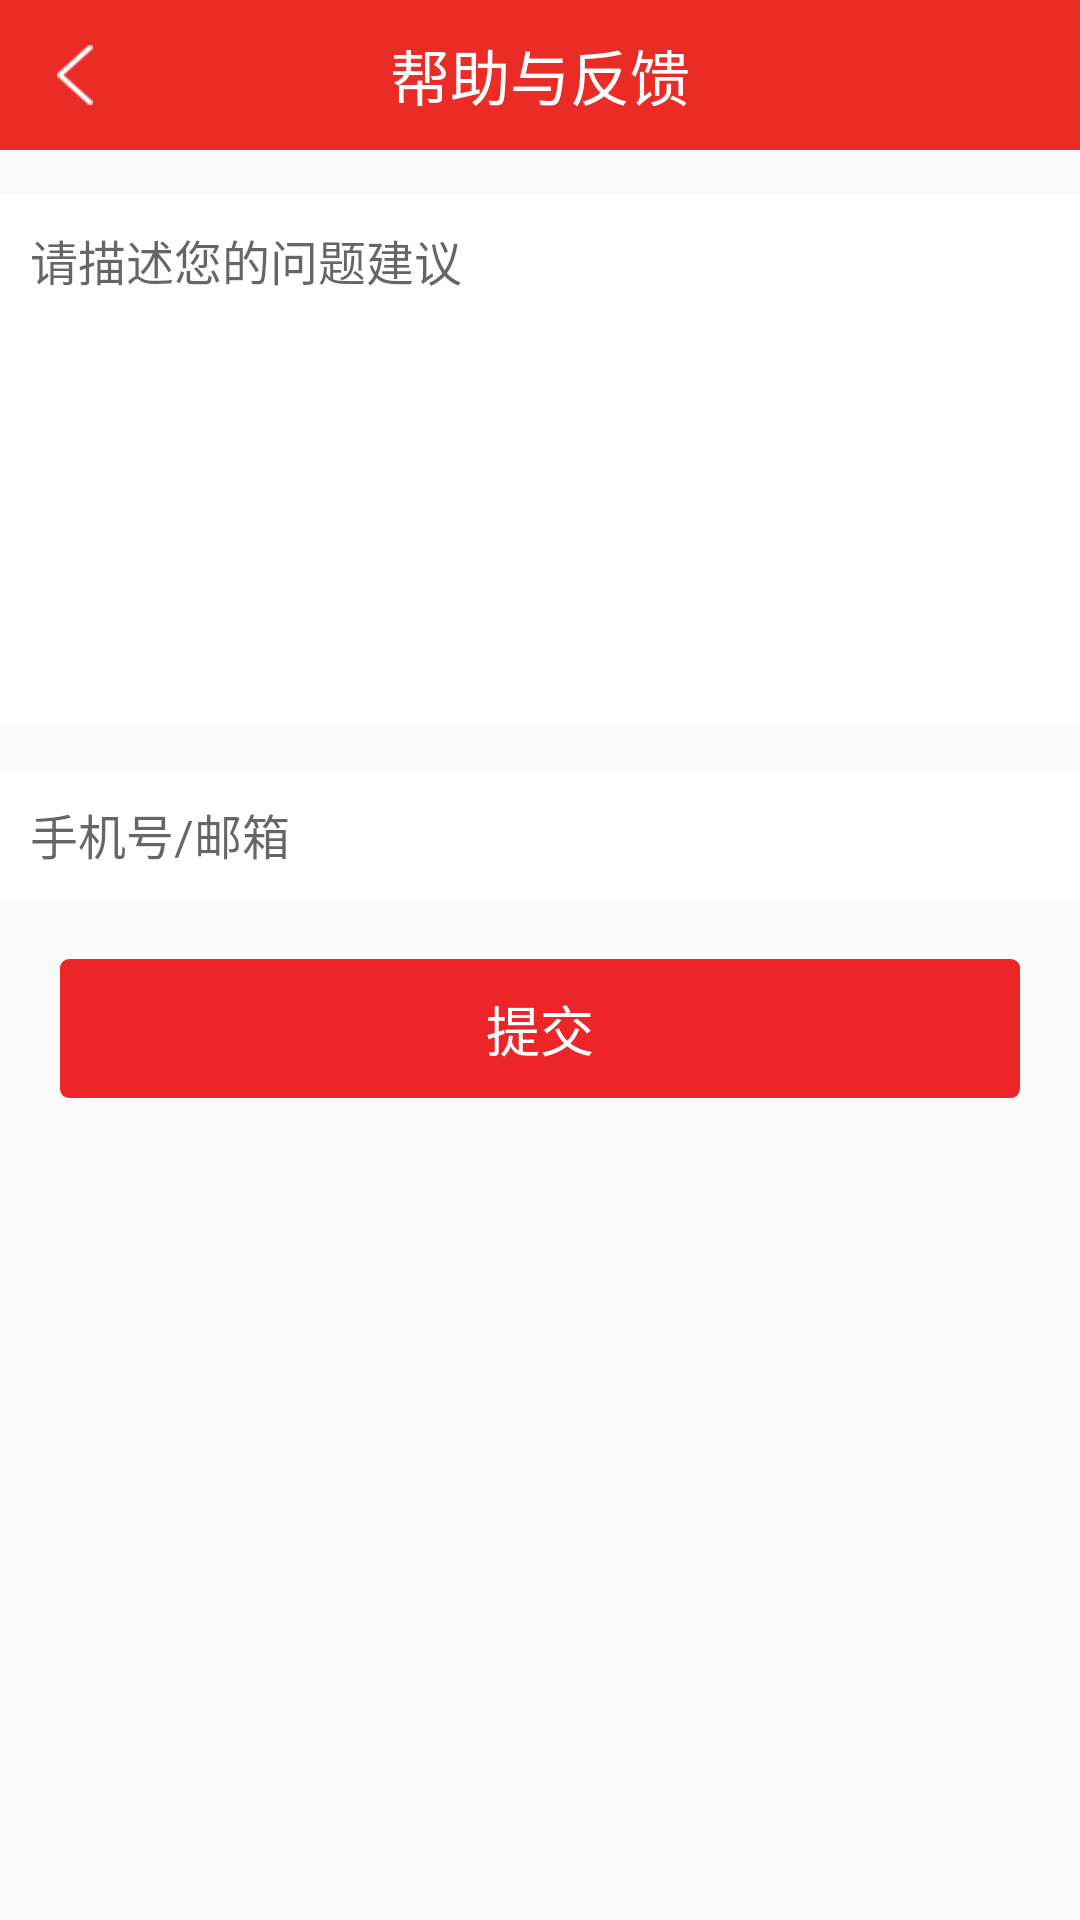

Locate icon controls on the screen. Image size 1080 x 1920, boxes as (x1, y1, x2, y2).
left: (57, 45, 93, 105)
